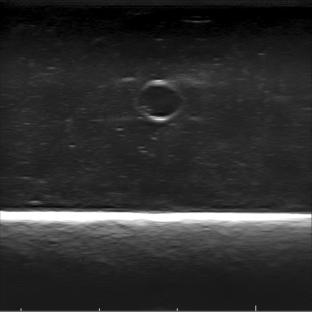vessel: (133, 78, 184, 122)
